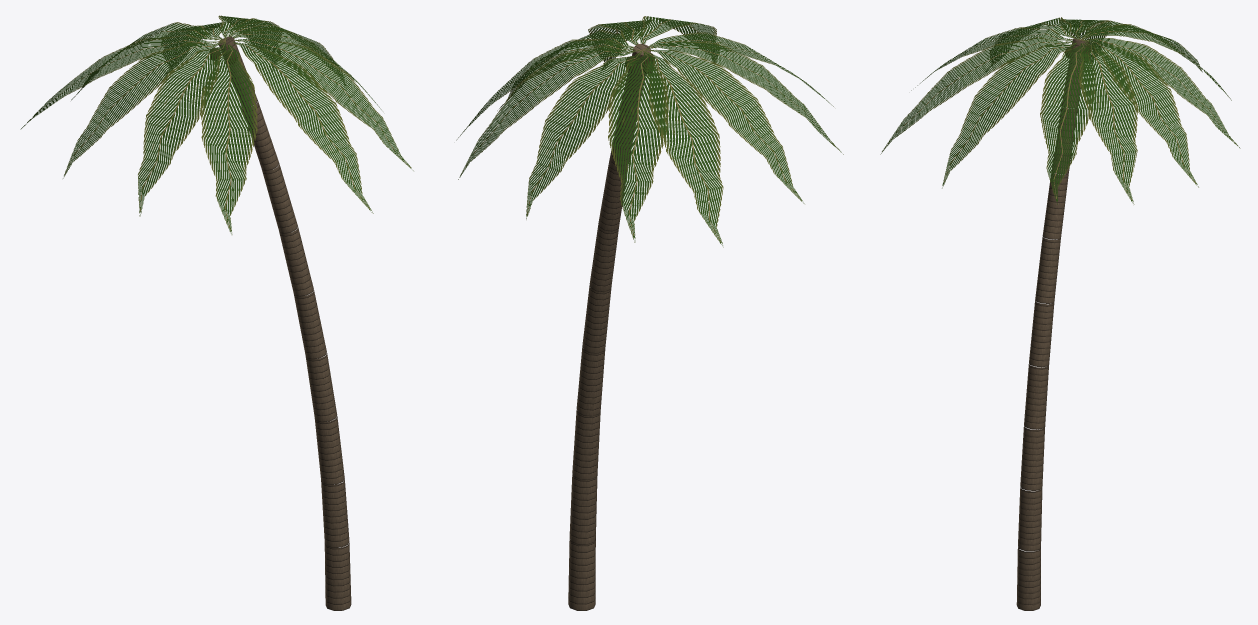
Rendered from SM_Art_Veg_Palm_2.gltf.
3 views of the same model, side by side, from view 1: azimuth 30°, elevation 25°; view 2: azimuth 150°, elevation 25°; view 3: azimuth 270°, elevation 25° (orthographic). The views are drawn at different scales.
Visible parts, largest first — view 1: SM_Art_Veg_Palm_2; view 2: SM_Art_Veg_Palm_2; view 3: SM_Art_Veg_Palm_2.
Boxes of the visible parts, box(x1,y1,x2,y2) form: SM_Art_Veg_Palm_2: box(20, 15, 413, 610); SM_Art_Veg_Palm_2: box(456, 16, 843, 610); SM_Art_Veg_Palm_2: box(880, 17, 1240, 610).
Bounding box in the file's own units: 5.54 × 9.56 × 6.03.
Materials: 3 (3 with a texture image).
